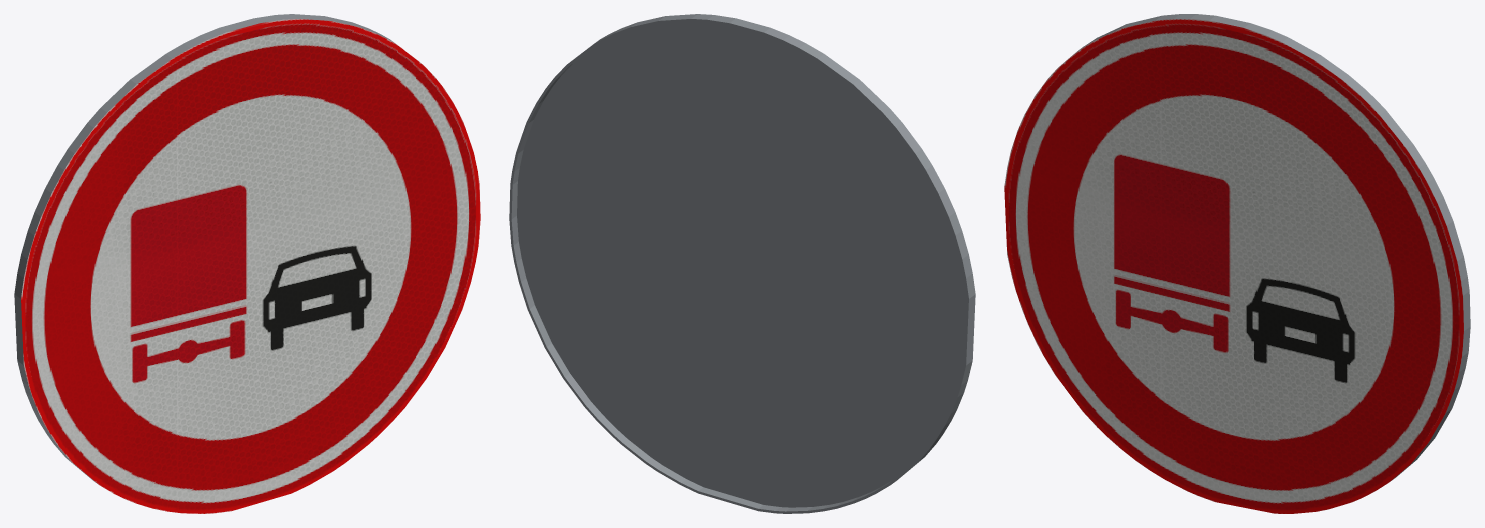
The picture shows the model from 3 angles, left to right: view 1: azimuth 30°, elevation 25°; view 2: azimuth 150°, elevation 25°; view 3: azimuth 330°, elevation 25°; orthographic projection.
Visible parts, largest first — view 1: cat_4a814bcb13fbc8bc; view 2: cat_4a814bcb13fbc8bc; view 3: cat_4a814bcb13fbc8bc.
Boxes of the visible parts, box(x1,y1,x2,y2) form: cat_4a814bcb13fbc8bc: box(14, 14, 480, 513); cat_4a814bcb13fbc8bc: box(509, 14, 975, 513); cat_4a814bcb13fbc8bc: box(1004, 14, 1470, 513).
Size of the model in its own units: 0.6 by 0.015 by 0.6.
2 materials, 1 textured.
